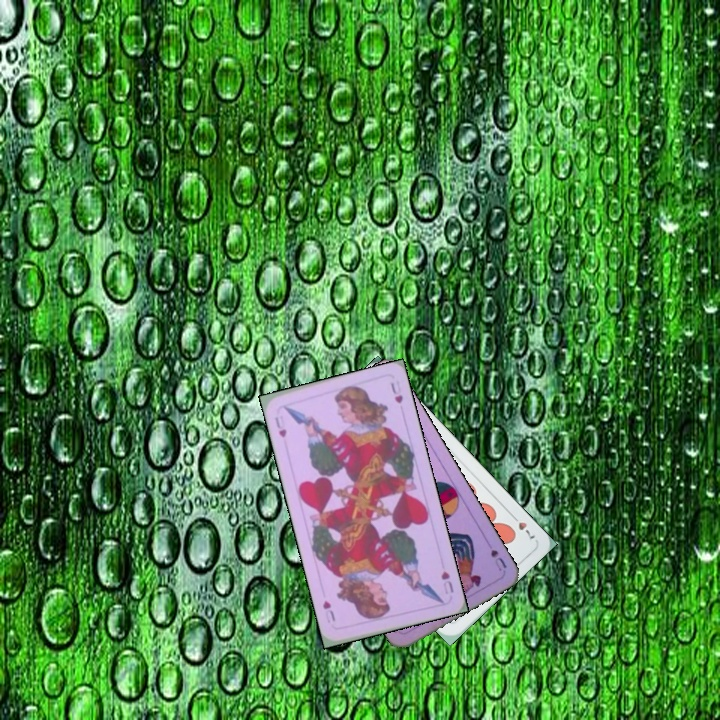H7: (506, 510, 538, 542)
HU: (437, 567, 456, 596), (271, 411, 289, 440)
SU: (481, 535, 509, 573)
